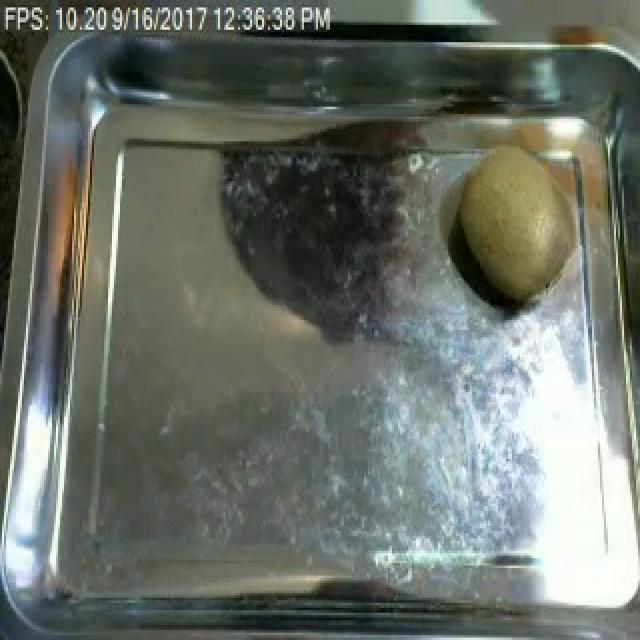Fruit: (448, 136, 588, 312)
